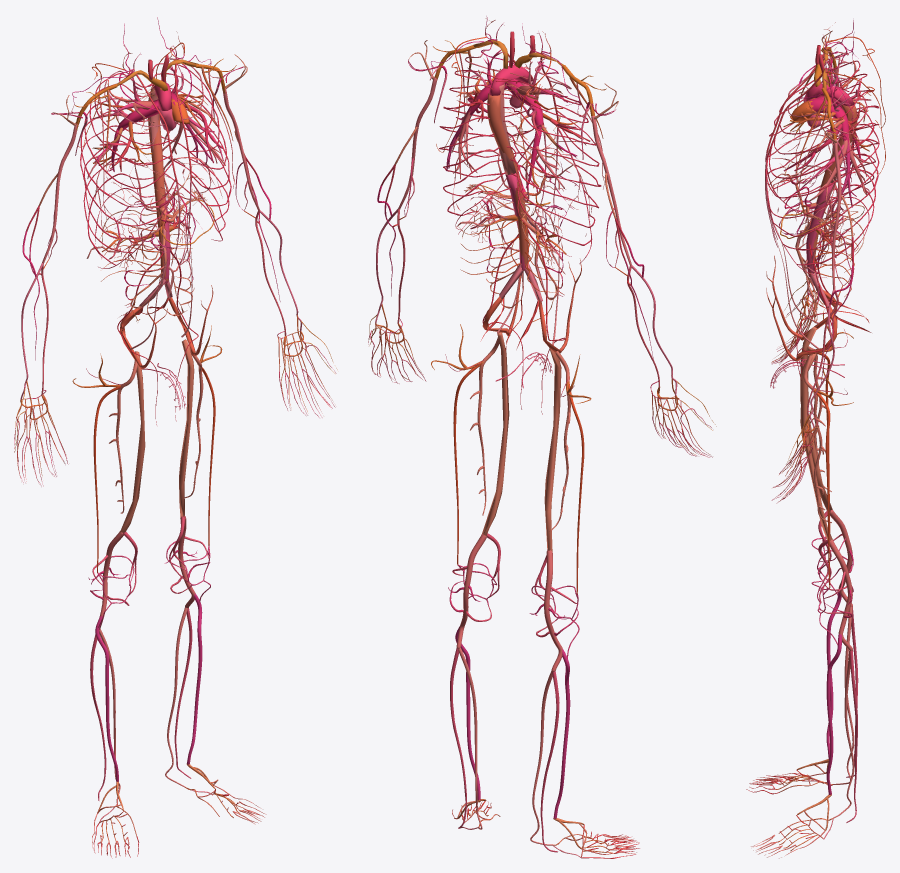
File: body-arteries.lod2.glb
3 renders of one model, left to right at view 1: azimuth 30°, elevation 25°; view 2: azimuth 150°, elevation 25°; view 3: azimuth 270°, elevation 25°, orthographic. The views are drawn at different scales.
Visible parts, largest first — view 1: posterior-intercostal-arteries, set-of-dorsal-digital-arteries, femoral-artery-l, femoral-artery-r, descending-aorta, set-of-perforating-arteries, anterior-tibial-artery-l, anterior-tibial-artery-r; view 2: posterior-intercostal-arteries, set-of-dorsal-digital-arteries, descending-aorta, femoral-artery-r, femoral-artery-l, set-of-perforating-arteries, anterior-tibial-artery-r, popliteal-artery-r, popliteal-artery-l; view 3: posterior-intercostal-arteries, set-of-dorsal-digital-arteries, femoral-artery-l, set-of-perforating-arteries, femoral-artery-r, abdominal-aorta, anterior-tibial-artery-l, popliteal-artery-l, descending-aorta, anterior-tibial-artery-r, brachial-artery-l, descending-branch-of-lateral-circumflex-femoral-artery-l (+16 smaller).
Part boxes in pixels (x1,y1,x2,y2): posterior-intercostal-arteries: (80,63,231,265); set-of-dorsal-digital-arteries: (14,345,336,800); femoral-artery-l: (179,339,194,517); femoral-artery-r: (119,351,145,534); descending-aorta: (148,94,168,284); set-of-perforating-arteries: (109,345,203,513); anterior-tibial-artery-l: (187,593,202,764); anterior-tibial-artery-r: (95,616,118,781); posterior-intercostal-arteries: (439,70,601,256); set-of-dorsal-digital-arteries: (368,330,712,852); descending-aorta: (487,93,528,270); femoral-artery-r: (544,347,561,551); femoral-artery-l: (482,332,509,536); set-of-perforating-arteries: (470,337,570,531); anterior-tibial-artery-r: (553,649,570,818); popliteal-artery-r: (544,550,562,671); popliteal-artery-l: (456,533,486,648); posterior-intercostal-arteries: (766,60,879,268); set-of-dorsal-digital-arteries: (771,299,858,822); femoral-artery-l: (800,353,832,540); set-of-perforating-arteries: (803,339,831,522); femoral-artery-r: (800,327,832,514); abdominal-aorta: (806,182,833,277); anterior-tibial-artery-l: (826,634,841,794); popliteal-artery-l: (829,539,852,650); descending-aorta: (808,104,857,275); anterior-tibial-artery-r: (826,592,841,759); brachial-artery-l: (832,139,841,289); descending-branch-of-lateral-circumflex-femoral-artery-l: (814,390,830,588).
Size of the model in its own units: 0.6485 by 1.5 by 0.2385.
